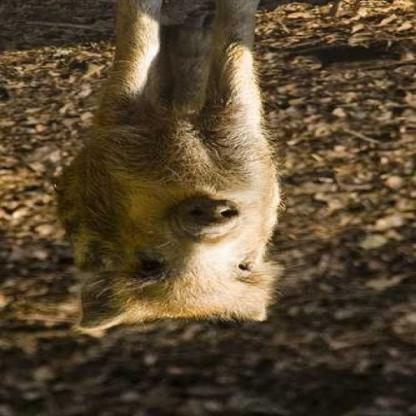boar: (48, 1, 282, 347)
